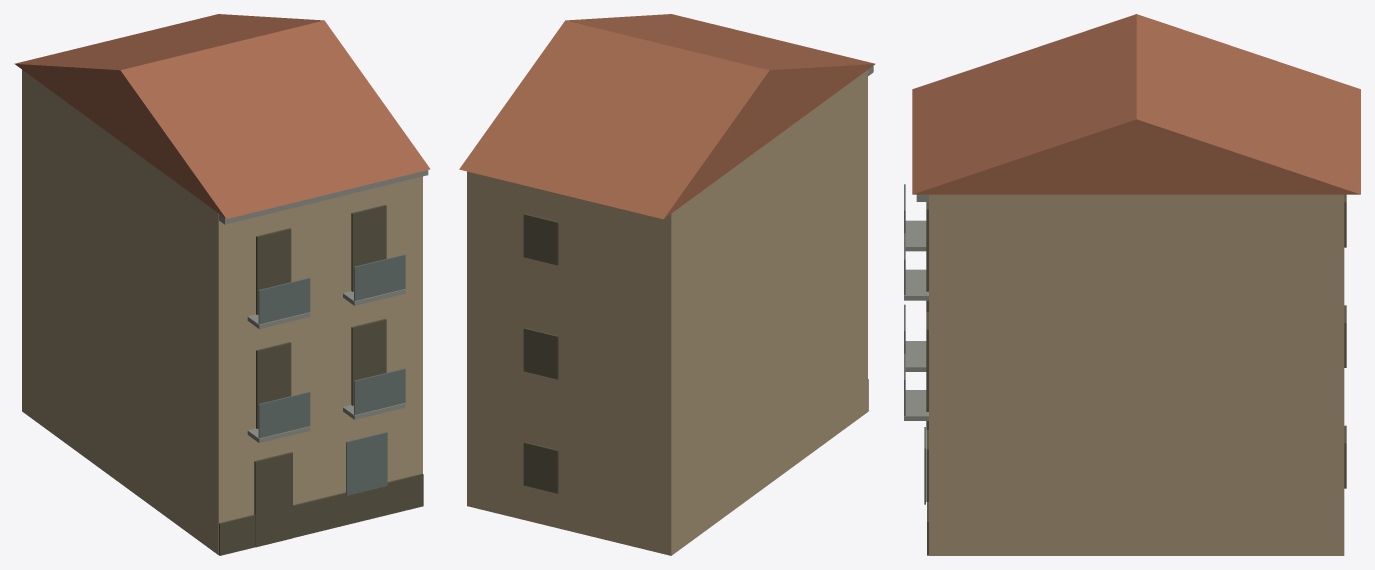
The model's file is SM_casa_pueblo_v1_LOD0.fbx.
The picture shows the model from 3 angles, left to right: view 1: azimuth 30°, elevation 25°; view 2: azimuth 150°, elevation 25°; view 3: azimuth 270°, elevation 25°; orthographic projection. The views are drawn at different scales.
Visible parts, largest first — view 1: SM_casa_pueblo_v1_LOD0; view 2: SM_casa_pueblo_v1_LOD0; view 3: SM_casa_pueblo_v1_LOD0.
Part boxes in pixels (bbox=[...]): SM_casa_pueblo_v1_LOD0: bbox=[14, 14, 430, 555]; SM_casa_pueblo_v1_LOD0: bbox=[459, 14, 875, 555]; SM_casa_pueblo_v1_LOD0: bbox=[904, 14, 1360, 555].
Size of the model in its own units: 6 by 11.6 by 11.
